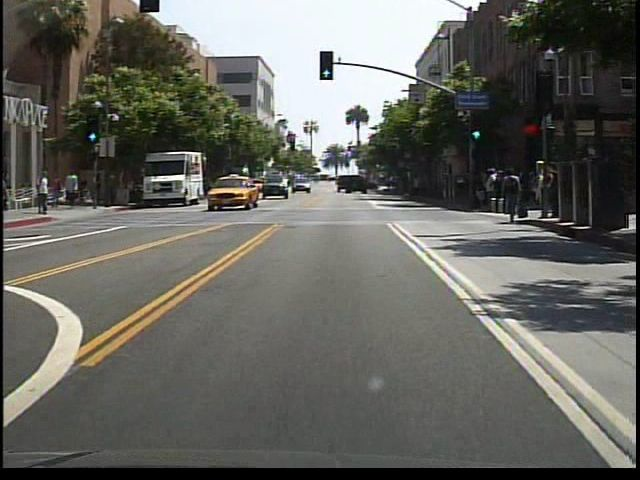person: (499, 166, 524, 225), (37, 168, 54, 217), (65, 168, 83, 211), (104, 166, 120, 208), (52, 174, 66, 209), (94, 170, 106, 207)
